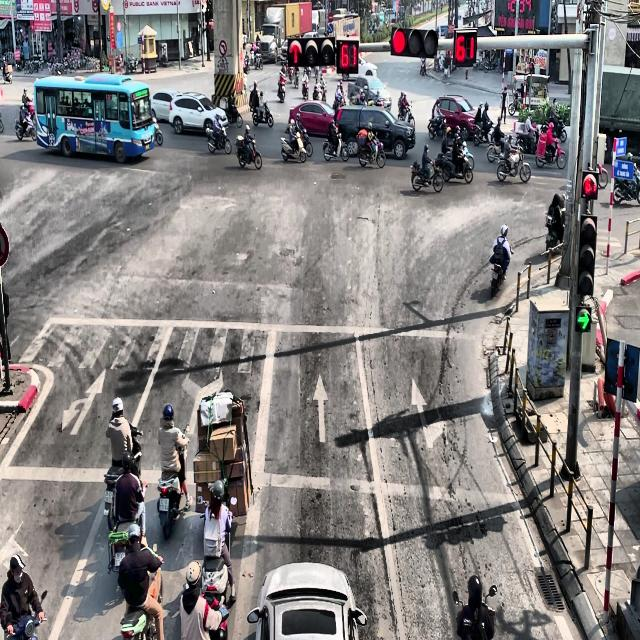BUS: (34, 72, 156, 163)
CAR: (247, 562, 367, 640), (168, 91, 228, 135), (432, 95, 481, 140), (288, 100, 336, 138), (347, 75, 392, 111), (151, 89, 180, 123), (358, 55, 378, 77)
MOTORBIKE: (107, 478, 148, 574), (103, 425, 143, 523), (156, 425, 190, 540), (120, 562, 164, 639), (452, 584, 497, 640), (4, 589, 47, 639), (613, 153, 640, 204), (496, 144, 531, 183), (410, 158, 443, 193), (441, 148, 473, 184), (535, 134, 567, 169), (285, 116, 313, 156), (358, 132, 386, 168), (235, 134, 262, 169), (280, 128, 307, 163), (323, 130, 349, 162), (206, 123, 231, 154), (14, 108, 37, 140), (219, 95, 242, 127), (487, 134, 510, 162), (252, 98, 274, 127), (490, 260, 506, 298), (474, 120, 494, 146), (398, 100, 416, 128), (428, 116, 447, 139), (508, 89, 523, 115), (2, 56, 12, 84), (277, 80, 286, 102), (301, 78, 309, 99), (420, 57, 427, 76), (243, 58, 250, 74), (294, 68, 299, 88)
TRAFFIC_LIGHT: (577, 213, 597, 296), (390, 25, 438, 58), (453, 28, 477, 66), (337, 39, 359, 74), (581, 170, 598, 199)
